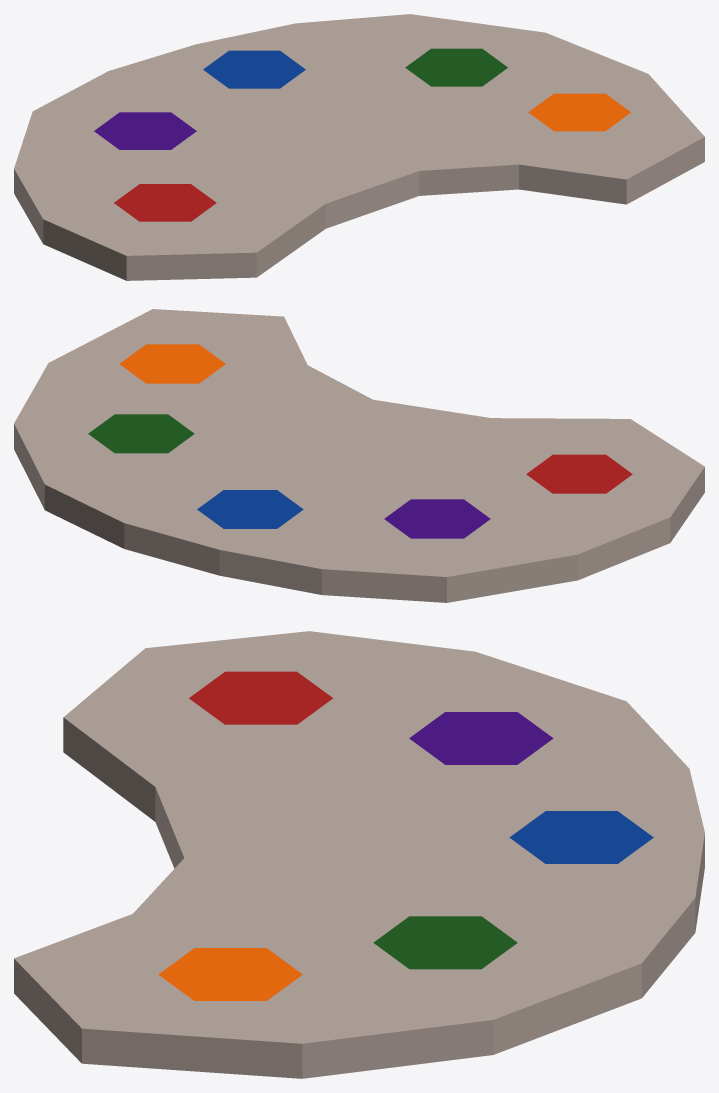
File: pallet2.fbx
The picture shows the model from 3 angles, top to bottom: view 1: azimuth 30°, elevation 25°; view 2: azimuth 150°, elevation 25°; view 3: azimuth 270°, elevation 25°; orthographic projection. The views are drawn at different scales.
Visible parts, largest first — view 1: pallet2; view 2: pallet2; view 3: pallet2.
Boxes of the visible parts, bbox=[...] form: pallet2: bbox=[14, 14, 704, 280]; pallet2: bbox=[14, 309, 704, 602]; pallet2: bbox=[14, 631, 704, 1078].
Bounding box in the file's own units: 75.15 × 3.37 × 53.18.
